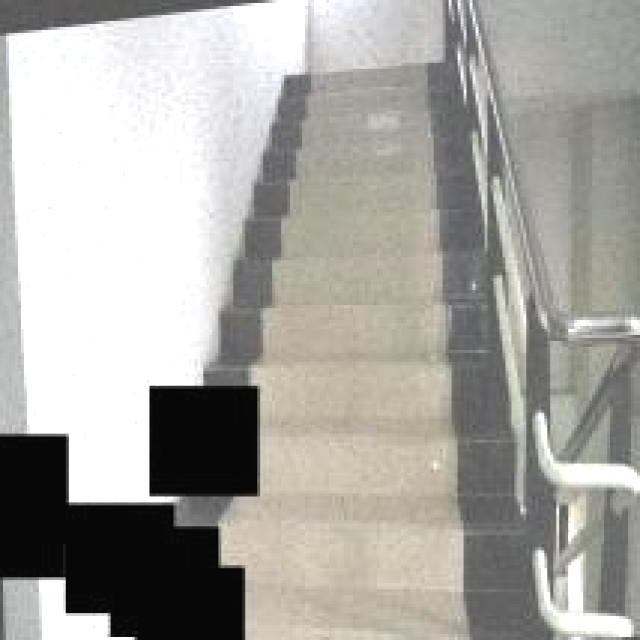upstair: (282, 103, 459, 366)
